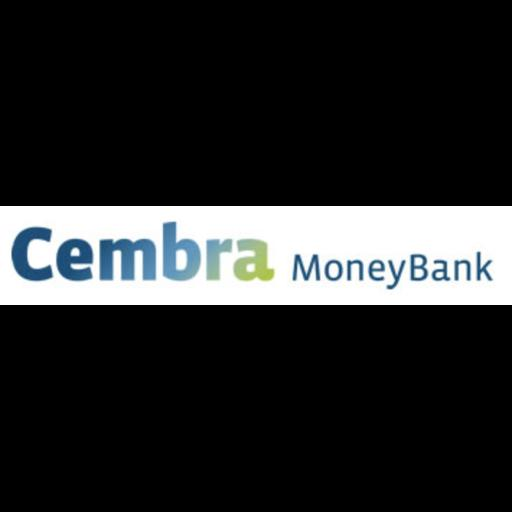Cembra Money Bank AG: (0, 206, 512, 305)
